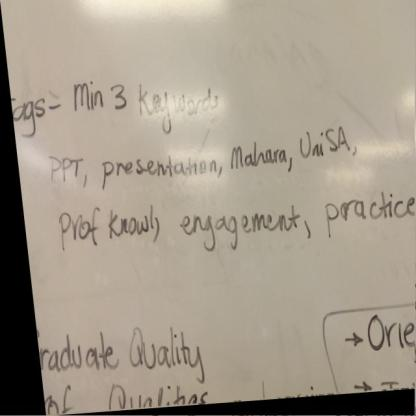Handwritten text: (45, 184, 305, 264), (127, 59, 248, 144), (37, 330, 216, 383), (95, 150, 218, 198), (96, 370, 215, 412), (3, 85, 61, 155), (223, 131, 293, 182), (287, 125, 353, 168), (68, 72, 112, 122), (43, 147, 87, 191), (44, 383, 81, 416)
